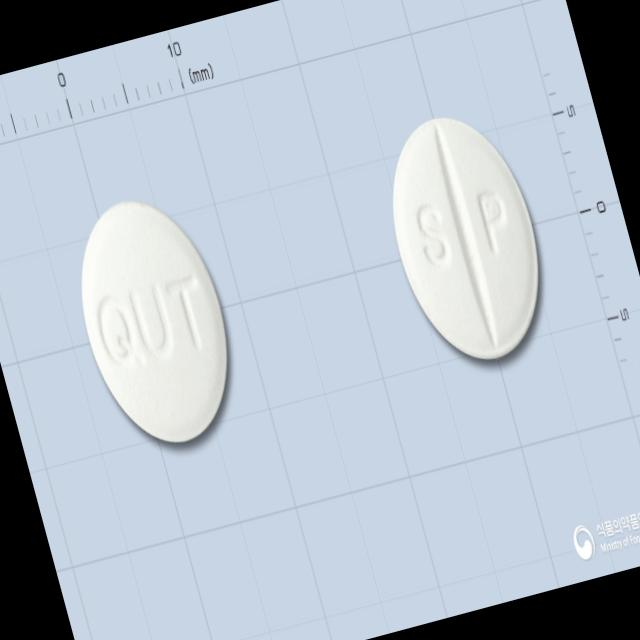Qupron Tab: (367, 98, 565, 380), (55, 182, 254, 460)
